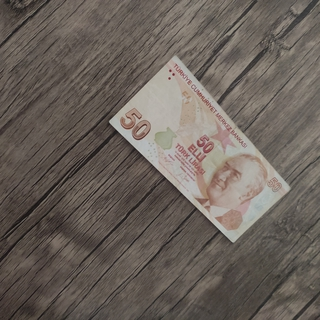50TLFront: (107, 54, 291, 245)
